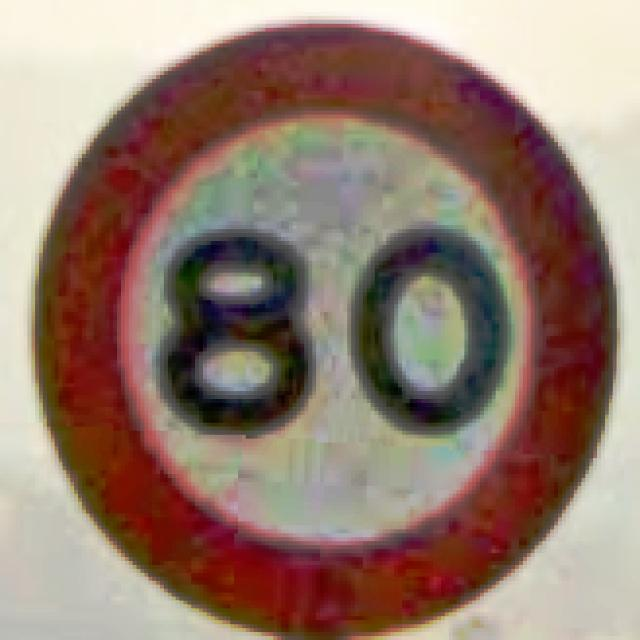max80: (28, 12, 620, 636)
